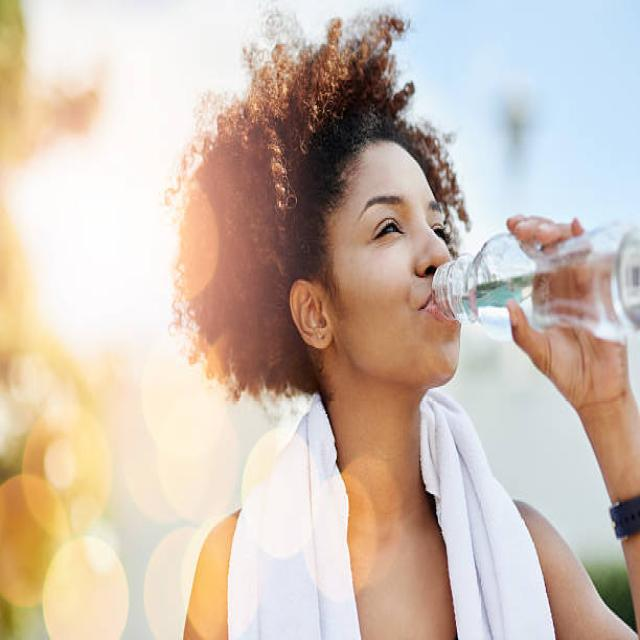Bottle: (433, 223, 639, 341)
